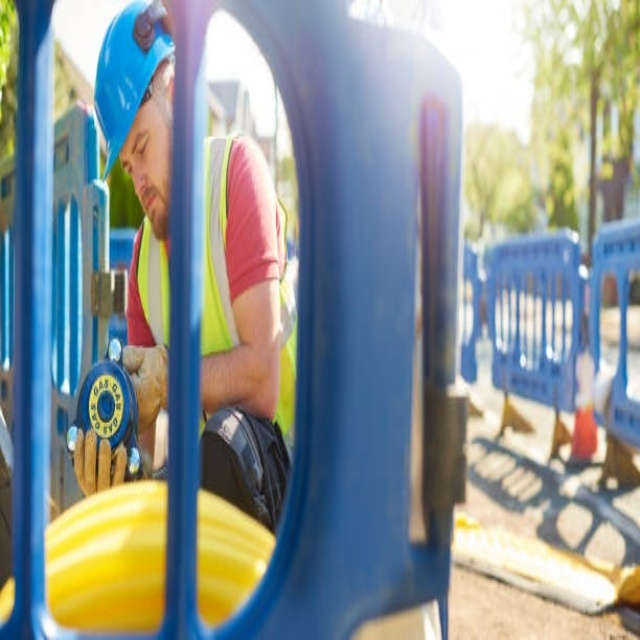Guantes: (62, 405, 137, 497), (121, 344, 169, 430)
Sin_gafas: (118, 84, 164, 179)
Sin_mascara: (135, 179, 172, 239)
